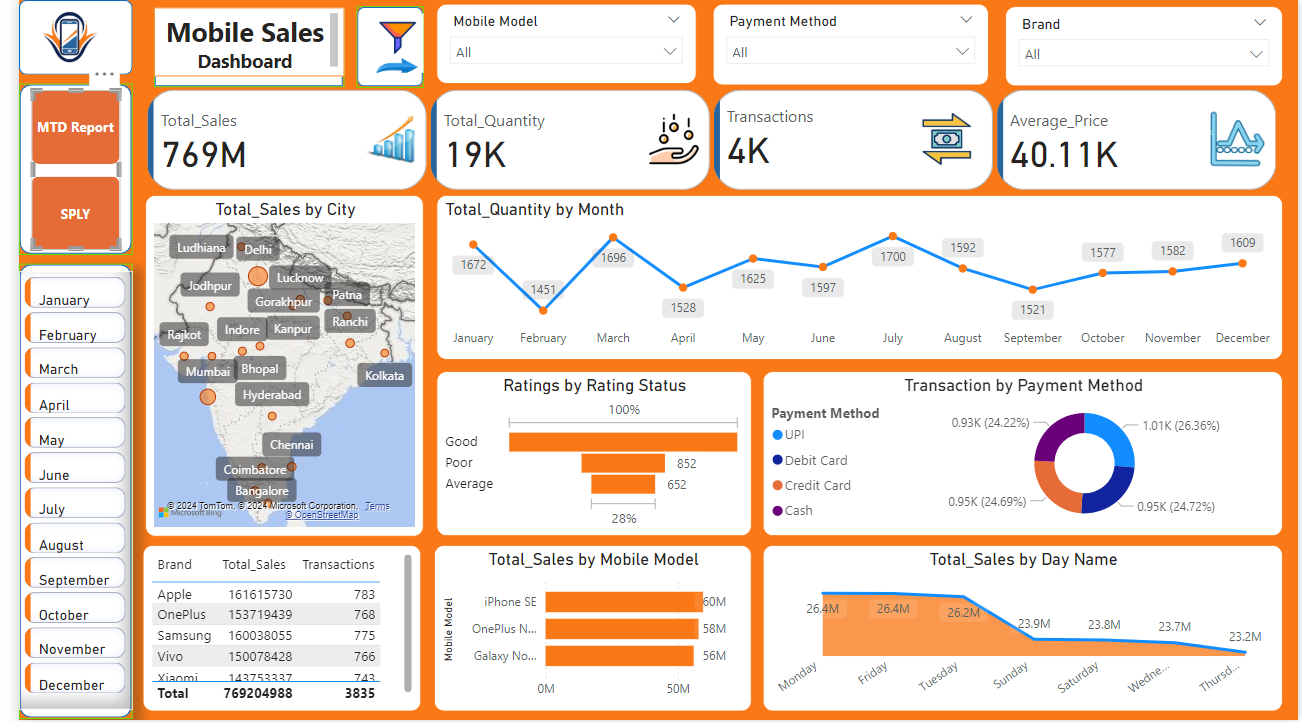

This screenshot's page, from the dashboard's own definition file:
{"tool":"powerbi","page":{"name":"Mobile Dasboard","canvas":[1280,720],"ordinal":0},"visuals":[{"type":"shape","box":[0,0,113.4,74.8],"z":0},{"type":"image","box":[14.5,0,71.2,74.8],"z":1000},{"type":"shape","box":[0,83.8,113.8,171.2],"z":2000},{"type":"shape","box":[0,263.8,113.8,455],"z":3000},{"type":"advancedSlicerVisual","fields":{"Values":["Custom_Calendar.Date.Variation.Date Hierarchy.Month"]},"box":[0,271.2,113.8,438.8],"z":4000},{"type":"cardVisual","fields":{"Data":["Sales_Data.Total_Sales","Sales_Data.Total_Quantity","Sales_Data.Transactions","Sales_Data.Average_Price"]},"box":[123.8,85,1140,110],"z":5000},{"type":"slicer","fields":{"Values":["Sales_Data.Mobile Model"]},"box":[417.5,3.8,260,80],"z":6000},{"type":"slicer","fields":{"Values":["Sales_Data.Brand"]},"box":[986.2,6.2,277.5,80],"z":7000},{"type":"slicer","fields":{"Values":["Sales_Data.Payment Method"]},"box":[693.8,3.8,276.2,81.2],"z":8000},{"type":"shape","box":[337.5,6.2,67.5,81.2],"z":9000},{"type":"image","box":[344.1,8.8,73.5,68.8],"z":10000},{"type":"shape","box":[135,8.8,190,78.8],"z":11000},{"type":"textbox","box":[135,7.5,190,68.8],"z":12000},{"type":"map","fields":{"Category":["Sales_Data.City"],"Size":["Sales_Data.Total_Sales"]},"box":[126.2,195,278.8,341.2],"z":13000},{"type":"lineChart","fields":{"Category":["Custom_Calendar.Date.Variation.Date Hierarchy.Month"],"Y":["Sales_Data.Total_Quantity"]},"box":[417.5,195,846.2,165],"z":14000},{"type":"funnel","title":"Ratings by Rating Status","fields":{"Category":["Sales_Data.Rating Status"],"Y":["CountNonNull(Sales_Data.Customer Ratings)"]},"box":[417.5,371.2,315,165],"z":15000},{"type":"donutChart","title":"Transaction by Payment Method","fields":{"Y":["CountNonNull(Sales_Data.Transaction ID)"],"Category":["Sales_Data.Payment Method"]},"box":[743.8,371.2,520,165],"z":16000},{"type":"clusteredBarChart","fields":{"Y":["Sales_Data.Total_Sales"],"Category":["Sales_Data.Mobile Model"]},"box":[415,545,317.5,166.2],"z":17000},{"type":"areaChart","fields":{"Y":["Sales_Data.Total_Sales"],"Category":["Custom_Calendar.Day Name"]},"box":[743.8,545,520,166.2],"z":18000},{"type":"tableEx","fields":{"Values":["Sales_Data.Brand","Sales_Data.Total_Sales","Sales_Data.Transactions"]},"box":[123.8,545,278.8,166.2],"z":19000},{"type":"pageNavigator","box":[12.5,90,88.8,160],"z":20000}]}

Visuals, with their boxes in screenshot pixels (x1, y1, x2, y2), scaled from the page's 1280x720 canvas onto the 1302x722 screenshot:
shape: region(0, 0, 115, 75)
image: region(15, 0, 87, 75)
shape: region(0, 84, 116, 256)
shape: region(0, 265, 116, 721)
advancedSlicerVisual - Custom_Calendar.Date.Variation.Date Hierarchy.Month: region(0, 272, 116, 712)
cardVisual - Sales_Data.Total_Sales x Sales_Data.Total_Quantity: region(126, 85, 1286, 196)
slicer - Sales_Data.Mobile Model: region(425, 4, 689, 84)
slicer - Sales_Data.Brand: region(1003, 6, 1285, 86)
slicer - Sales_Data.Payment Method: region(706, 4, 987, 85)
shape: region(343, 6, 412, 88)
image: region(350, 9, 425, 78)
shape: region(137, 9, 331, 88)
textbox: region(137, 8, 331, 77)
map - Sales_Data.City x Sales_Data.Total_Sales: region(128, 196, 412, 538)
lineChart - Custom_Calendar.Date.Variation.Date Hierarchy.Month x Sales_Data.Total_Quantity: region(425, 196, 1285, 361)
"Ratings by Rating Status" funnel: region(425, 372, 745, 538)
"Transaction by Payment Method" donutChart: region(757, 372, 1286, 538)
clusteredBarChart - Sales_Data.Total_Sales x Sales_Data.Mobile Model: region(422, 547, 745, 713)
areaChart - Sales_Data.Total_Sales x Custom_Calendar.Day Name: region(757, 547, 1286, 713)
tableEx - Sales_Data.Brand x Sales_Data.Total_Sales: region(126, 547, 410, 713)
pageNavigator: region(13, 90, 103, 251)
